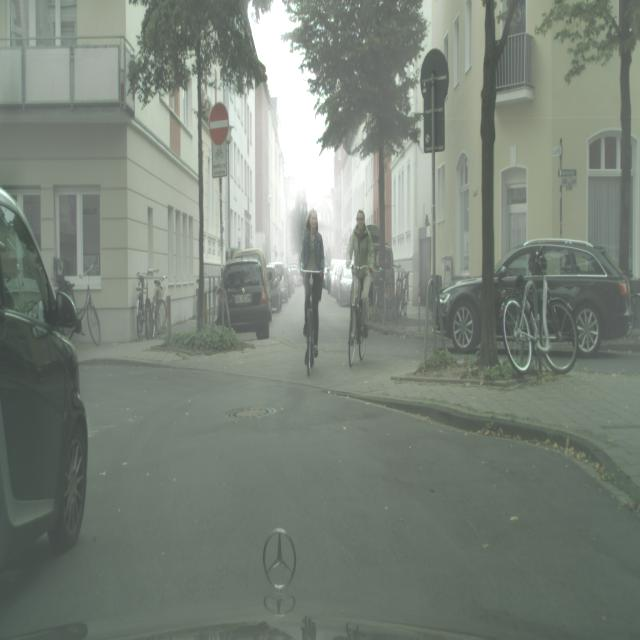car: (502, 271, 577, 376), (54, 261, 101, 346), (347, 269, 372, 367), (136, 268, 154, 340), (151, 273, 168, 338), (136, 269, 148, 341)
person: (345, 208, 374, 354), (300, 208, 324, 363)
truck: (0, 188, 89, 570), (438, 237, 633, 359), (216, 254, 272, 339), (267, 262, 288, 310), (331, 261, 346, 298), (287, 264, 301, 291)
